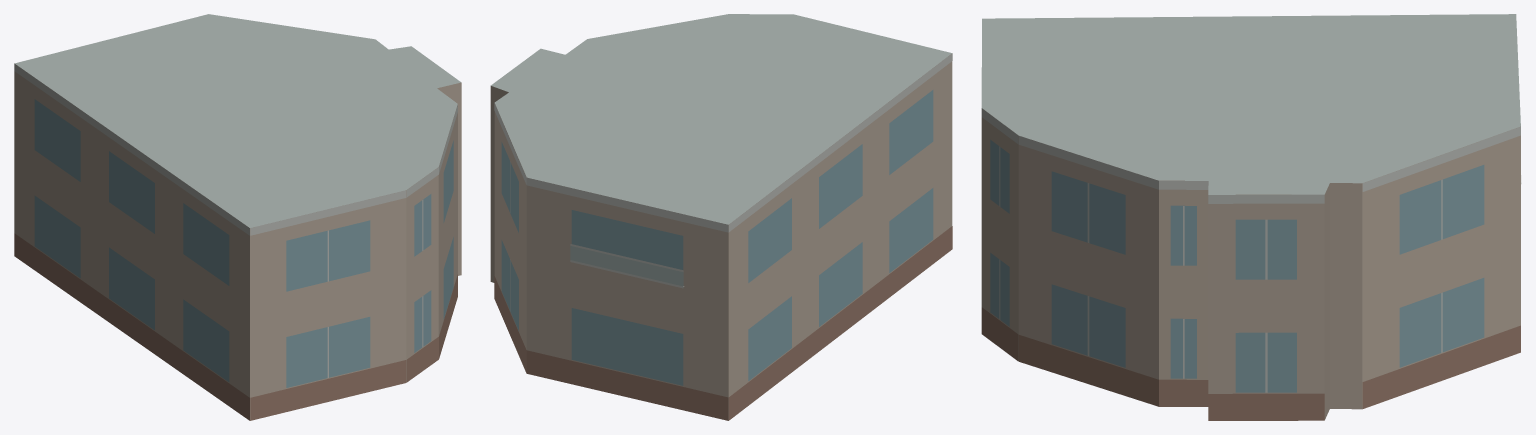
The model's file is survey-upis-32821746.glb.
The picture shows the model from 3 angles, left to right: view 1: azimuth 30°, elevation 25°; view 2: azimuth 150°, elevation 25°; view 3: azimuth 270°, elevation 25°; orthographic projection. The views are drawn at different scales.
Parts seen in each view (by area): view 1: survey-upis-32821746.tmp; view 2: survey-upis-32821746.tmp; view 3: survey-upis-32821746.tmp.
Part boxes in pixels (box(x1,y1,x2,y2)): survey-upis-32821746.tmp: box(14, 14, 461, 420); survey-upis-32821746.tmp: box(490, 14, 952, 420); survey-upis-32821746.tmp: box(981, 14, 1521, 420).
Size of the model in its own units: 10.48 by 6.1 by 13.21.
